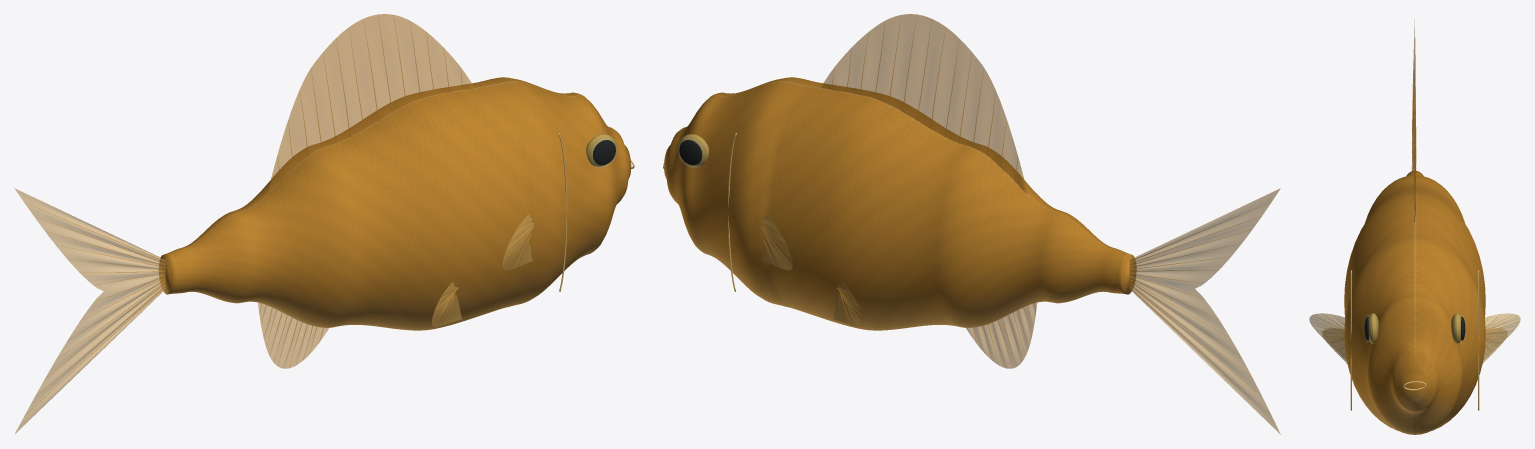
The model's file is goldfish-desktop.glb.
3 renders of one model, left to right at view 1: azimuth 30°, elevation 25°; view 2: azimuth 150°, elevation 25°; view 3: azimuth 270°, elevation 25°, orthographic. The views are drawn at different scales.
Parts seen in each view (by area): view 1: skin, dorsal, tail, dorsal-ray, anal, pectoral-left, pelvic-left; view 2: skin, dorsal, tail, dorsal-ray, anal, pectoral-left, pelvic-left; view 3: skin, pectoral-left, pelvic-left, dorsal-ray, operculum, eye-iris--1, tail, dorsal.
Part boxes in pixels (x1,y1,x2,y2): skin: (159, 77, 631, 330); dorsal: (268, 14, 473, 192); tail: (14, 188, 165, 433); dorsal-ray: (27, 15, 534, 413); anal: (258, 302, 328, 368); pectoral-left: (502, 214, 534, 270); pelvic-left: (432, 282, 461, 326); skin: (664, 77, 1136, 330); dorsal: (821, 14, 1026, 193); tail: (1129, 188, 1280, 434); dorsal-ray: (761, 15, 1265, 409); anal: (966, 302, 1037, 368); pectoral-left: (761, 213, 792, 270); pelvic-left: (833, 282, 863, 326); skin: (1344, 171, 1485, 434); pectoral-left: (1309, 313, 1520, 360); pelvic-left: (1322, 328, 1507, 363); dorsal-ray: (1313, 42, 1517, 351); operculum: (1350, 270, 1479, 410); eye-iris--1: (1368, 313, 1461, 343); tail: (1412, 19, 1415, 170); dorsal: (1414, 94, 1415, 222).
Size of the model in its own units: 0.6092 by 0.3151 by 0.2061.
11 materials, 1 textured.
